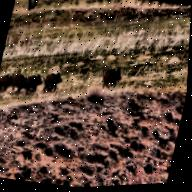boar: (46, 55, 71, 88), (28, 62, 48, 95), (103, 62, 130, 86), (0, 63, 16, 96), (13, 66, 29, 90)
